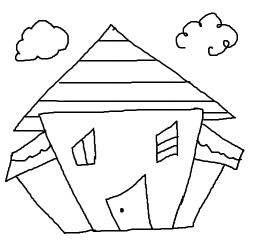closed_window: (71, 128, 97, 167), (155, 120, 179, 162)
clouds: (173, 11, 238, 57), (14, 18, 70, 62)
door: (103, 173, 153, 238)
roof: (4, 19, 242, 133)
wall: (37, 102, 210, 237)
